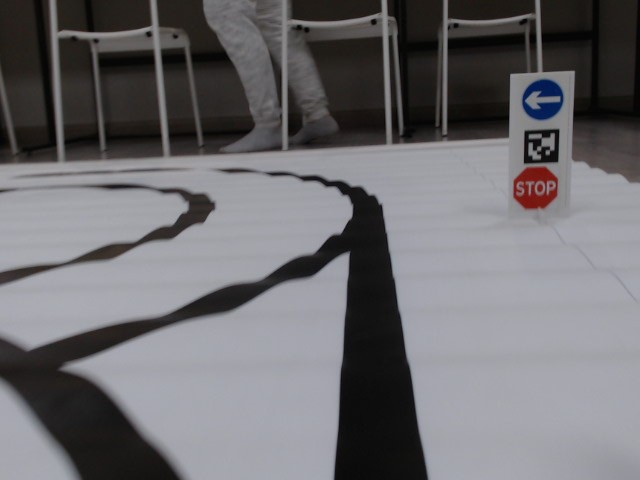Stop: (513, 167, 558, 208)
